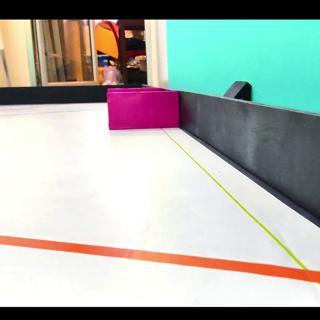xparking: (108, 93, 175, 128)
